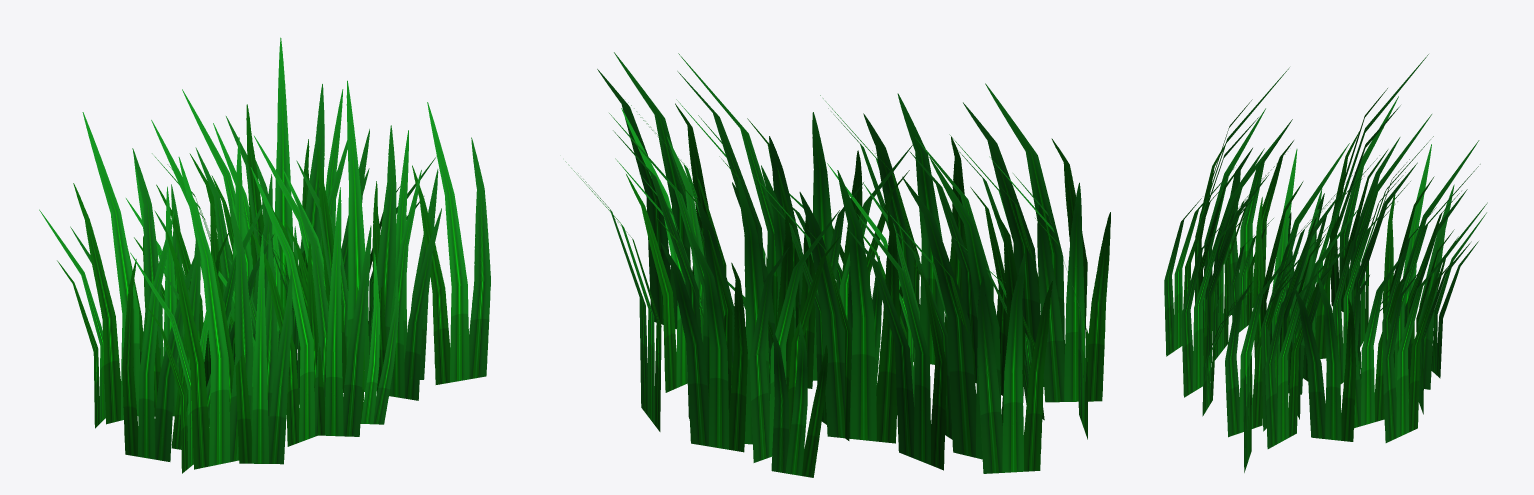
File: Grass_06c.FBX
3 views of the same model, side by side, from view 1: azimuth 30°, elevation 25°; view 2: azimuth 150°, elevation 25°; view 3: azimuth 270°, elevation 25° (orthographic). The views are drawn at different scales.
Parts seen in each view (by area): view 1: Grass_06c; view 2: Grass_06c; view 3: Grass_06c.
Boxes of the visible parts, x1,y1,x2,y2 form: Grass_06c: [39, 37, 490, 473]; Grass_06c: [565, 52, 1110, 477]; Grass_06c: [1164, 54, 1487, 472].
Size of the model in its own units: 21.53 by 14.08 by 15.82.
Materials: 1 (1 with a texture image).
